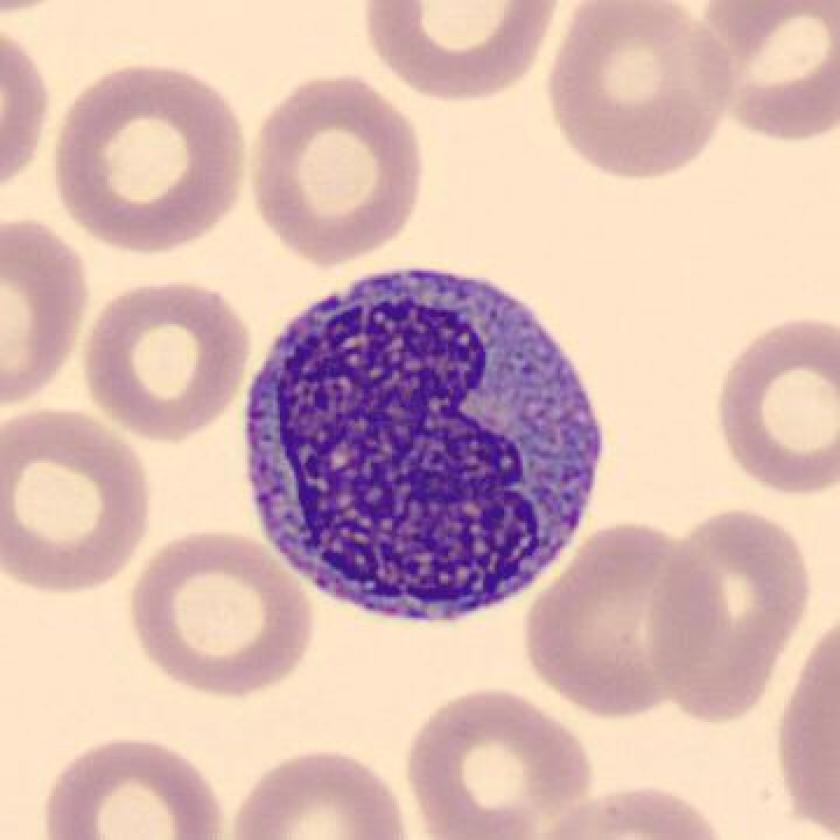monocyte: (223, 251, 622, 640)
